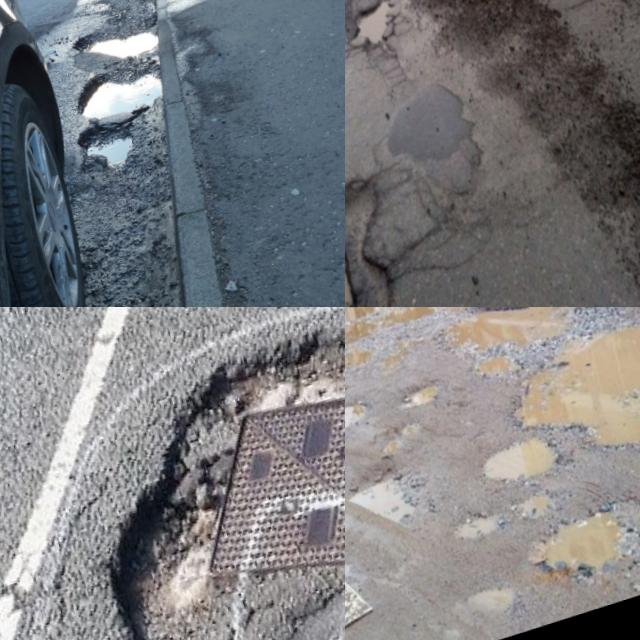Potholes: (0, 307, 345, 640), (0, 0, 290, 253), (429, 307, 640, 517), (345, 307, 569, 475), (500, 449, 640, 627), (345, 443, 444, 567), (345, 0, 456, 102), (502, 307, 640, 377), (373, 361, 458, 458), (448, 558, 536, 640)
